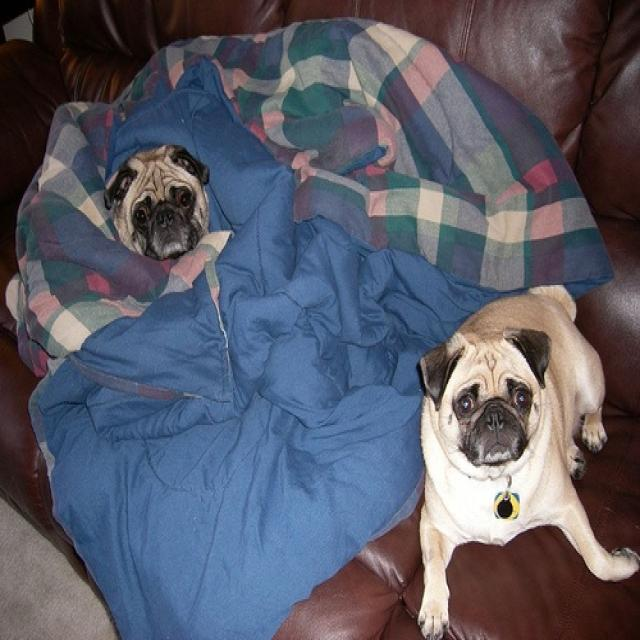dog: (414, 284, 638, 638), (104, 145, 210, 259)
